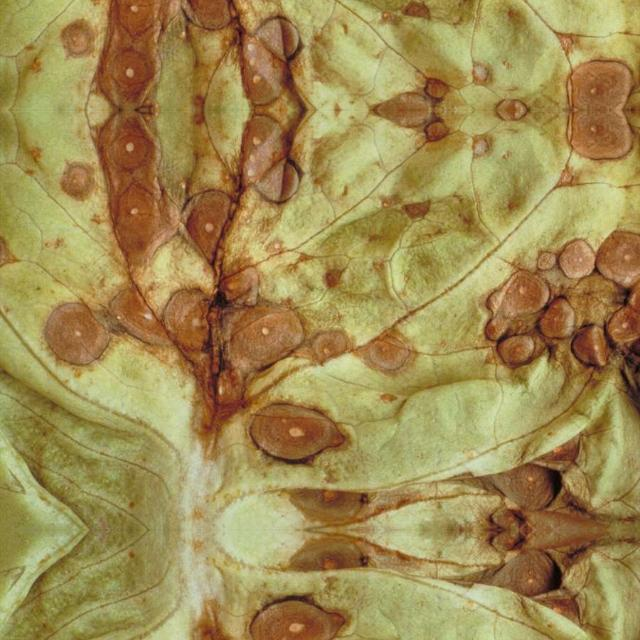Septoria_Blight: (44, 276, 416, 380), (59, 109, 304, 243), (58, 0, 303, 109), (478, 235, 638, 367), (366, 109, 530, 153), (366, 65, 530, 109), (246, 400, 354, 460), (246, 598, 354, 640), (559, 109, 639, 157), (559, 61, 639, 109)
